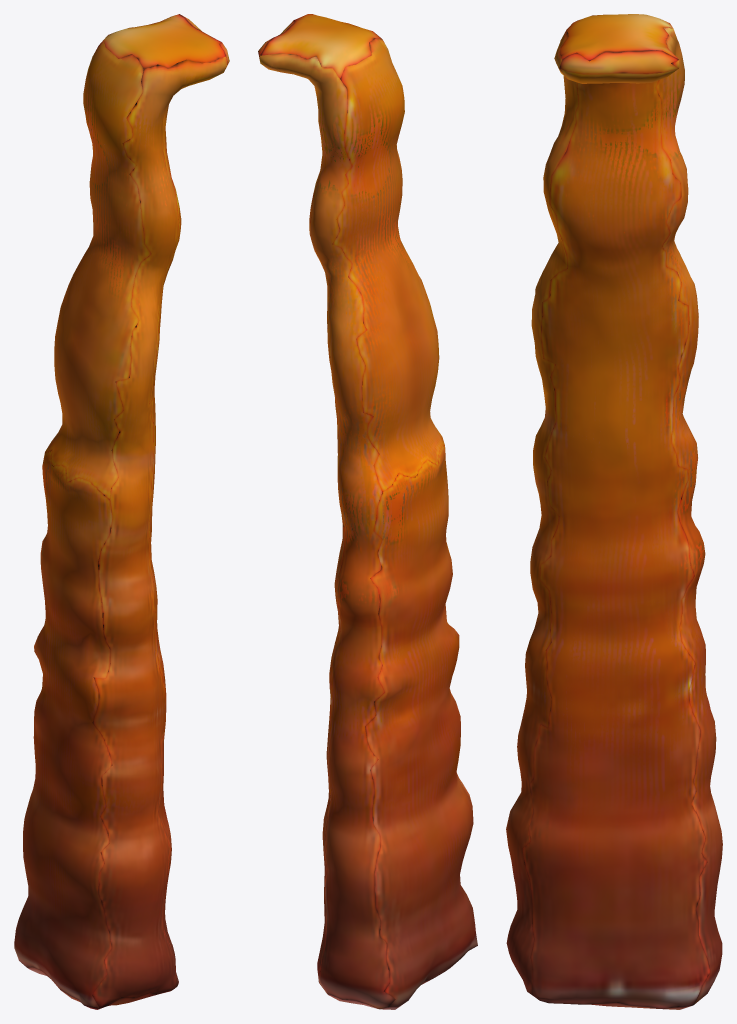
File: 018bb343-6ec9-73ef-87c8-532aea751e88.glb
3 renders of one model, left to right at view 1: azimuth 30°, elevation 25°; view 2: azimuth 150°, elevation 25°; view 3: azimuth 270°, elevation 25°, orthographic. The views are drawn at different scales.
Visible parts, largest first — view 1: model.obj; view 2: model.obj; view 3: model.obj.
Part boxes in pixels (x1=…): model.obj: x1=14, y1=14, x2=229, y2=1009; model.obj: x1=258, y1=14, x2=477, y2=1009; model.obj: x1=506, y1=14, x2=722, y2=1009.
Size of the model in its own units: 0.2052 by 1.09 by 0.2137.
1 material, 1 textured.
